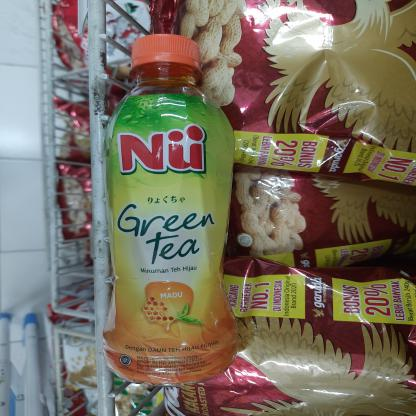bottle: (93, 28, 241, 394)
